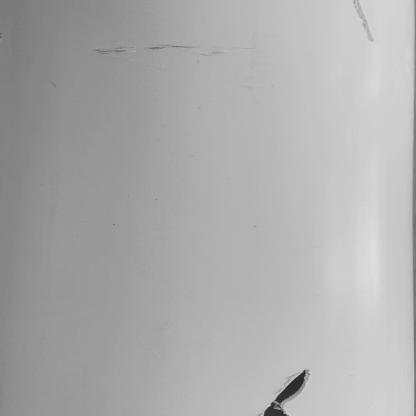kongdong: (263, 368, 311, 416)
sunshang: (93, 42, 243, 58), (350, 1, 375, 41)
